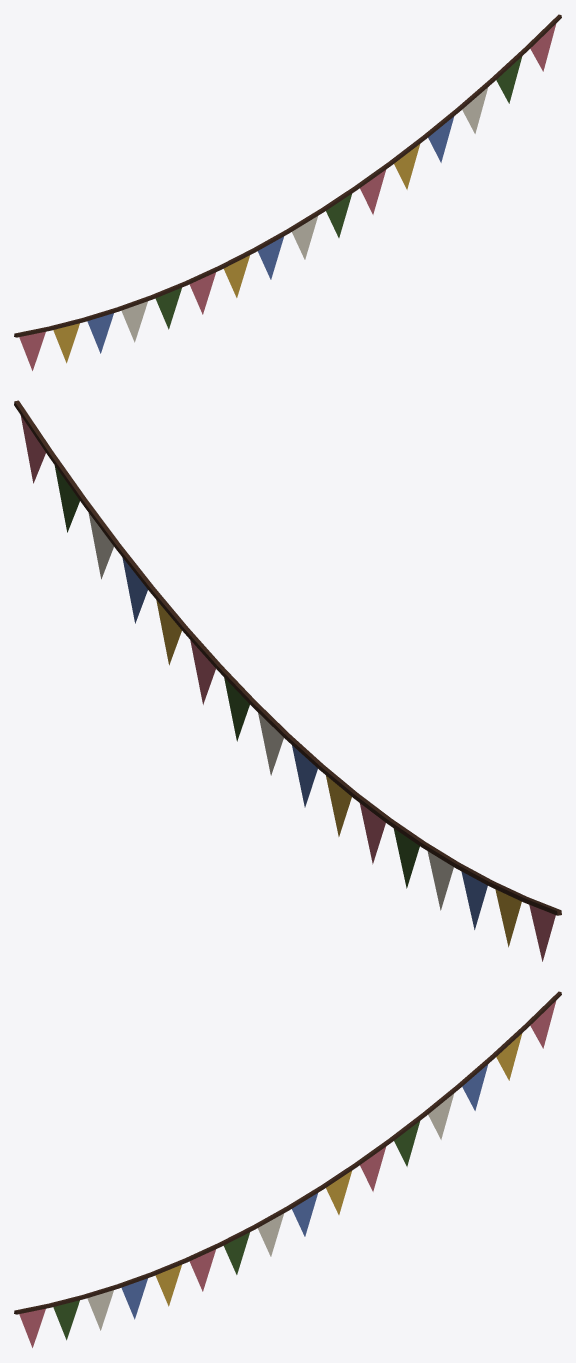
The model's file is scene_bunting_0.glb.
3 renders of one model, top to bottom at view 1: azimuth 90°, elevation 25°; view 2: azimuth 150°, elevation 25°; view 3: azimuth 270°, elevation 25°, orthographic. The views are drawn at different scales.
Visible parts, largest first — view 1: scene_bunting_0; view 2: scene_bunting_0; view 3: scene_bunting_0.
Part boxes in pixels (x1,y1,x2,y2): scene_bunting_0: [14, 14, 561, 370]; scene_bunting_0: [14, 400, 561, 961]; scene_bunting_0: [14, 991, 561, 1347].
Bounding box in the file's own units: 5.57 × 0.7786 × 4.02.
